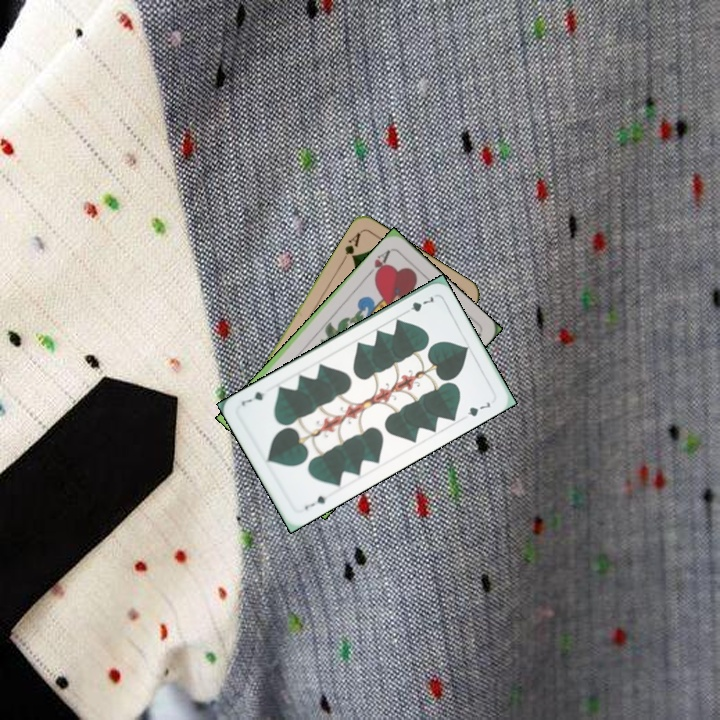G7: (399, 292, 436, 317), (300, 491, 329, 512)
GA: (338, 228, 364, 265)
HA: (363, 245, 393, 281)
